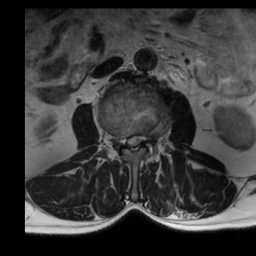CCS_severe_stenosis: (130, 131, 136, 153)
LFS_severe_stenosis: (144, 131, 150, 147)
LLS_stenosis: (136, 131, 143, 148)
RFS_stenosis: (116, 131, 125, 150)
RLS_stenosis: (125, 132, 132, 150)
